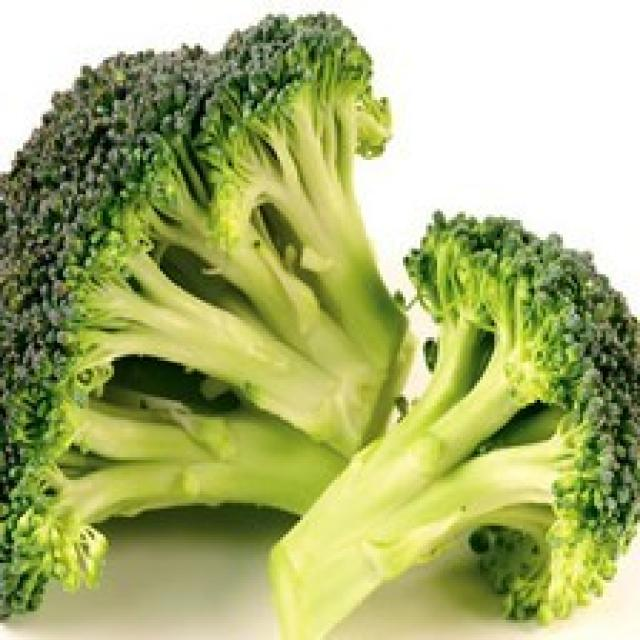Broccoli: (0, 15, 640, 639)
